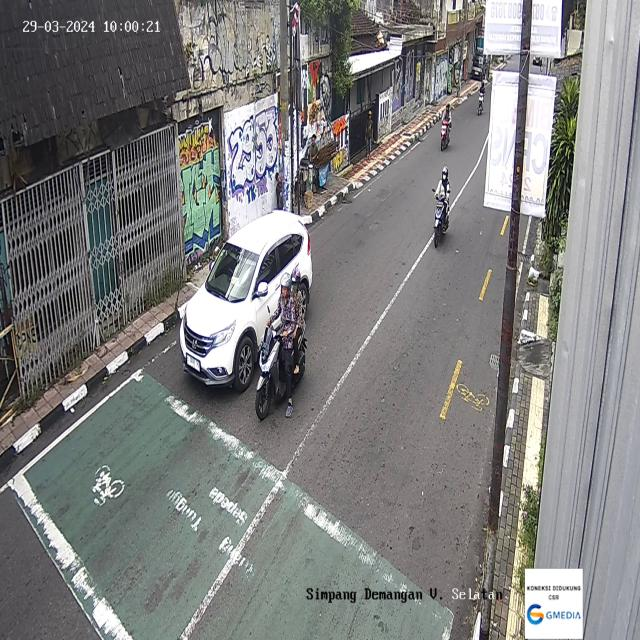car: (179, 209, 313, 394)
motorcycle: (254, 266, 306, 420), (432, 166, 452, 248), (440, 102, 452, 150), (477, 80, 486, 116)
